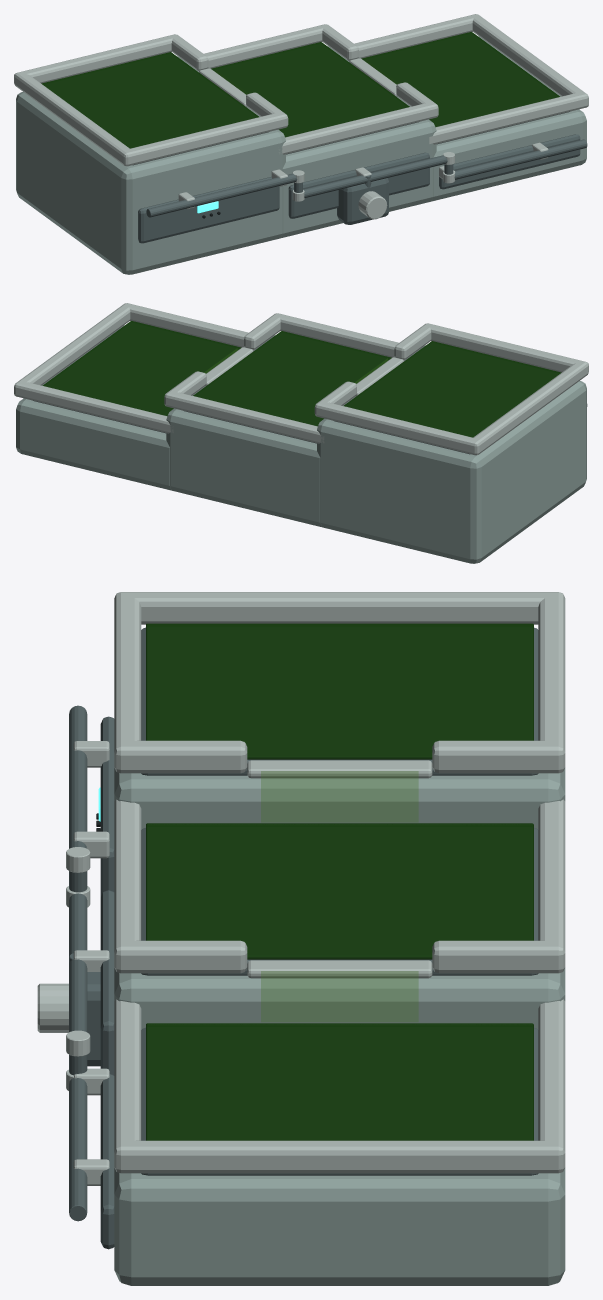
File: Cascade de trois bacs à algues.glb
3 views of the same model, one above another, from view 1: azimuth 30°, elevation 25°; view 2: azimuth 150°, elevation 25°; view 3: azimuth 270°, elevation 25° (orthographic). The views are drawn at different scales.
Parts seen in each view (by area): view 1: 22_three_stage_algae_cascade_Stage_1_Rectangular_Body, 22_three_stage_algae_cascade_Stage_1_Water_Surface, 22_three_stage_algae_cascade_Stage_3_Water_Surface, 22_three_stage_algae_cascade_Stage_2_Water_Surface, 22_three_stage_algae_cascade_Stage_2_Rectangular_Body, 22_three_stage_algae_cascade_Stage_3_Rectangular_Body, 22_three_stage_algae_cascade_Stepped_Circulation_Pipe_Segmen (×3), 22_three_stage_algae_cascade_Stage_1_Front_Service_Panel, 22_three_stage_algae_cascade_Stage_1_Rim_Front, 22_three_stage_algae_cascade_Stage_2_Rim_Front, 22_three_stage_algae_cascade_Stage_3_Rim_Front, 22_three_stage_algae_cascade_Stage_2_Front_Service_Panel (+14 smaller); view 2: 22_three_stage_algae_cascade_Stage_1_Rectangular_Body, 22_three_stage_algae_cascade_Stage_2_Rectangular_Body, 22_three_stage_algae_cascade_Stage_1_Water_Surface, 22_three_stage_algae_cascade_Stage_3_Water_Surface, 22_three_stage_algae_cascade_Stage_2_Water_Surface, 22_three_stage_algae_cascade_Stage_3_Rectangular_Body, 22_three_stage_algae_cascade_Stage_1_Rim_Rear, 22_three_stage_algae_cascade_Stage_2_Rim_Rear, 22_three_stage_algae_cascade_Stage_3_Rim_Rear, 22_three_stage_algae_cascade_Stage_1_Rim_Front, 22_three_stage_algae_cascade_Stage_1_Rim_Left, 22_three_stage_algae_cascade_Stage_3_Rim_Right (+8 smaller); view 3: 22_three_stage_algae_cascade_Stage_3_Rectangular_Body, 22_three_stage_algae_cascade_Stage_1_Water_Surface, 22_three_stage_algae_cascade_Stage_2_Water_Surface, 22_three_stage_algae_cascade_Stage_3_Water_Surface, 22_three_stage_algae_cascade_Stage_1_Rectangular_Body, 22_three_stage_algae_cascade_Stage_2_Rectangular_Body, 22_three_stage_algae_cascade_Stage_3_Rim_Right, 22_three_stage_algae_cascade_Stage_1_Rim_Left, 22_three_stage_algae_cascade_Waterfall_1_Vertical_Sheet, 22_three_stage_algae_cascade_Waterfall_2_Vertical_Sheet, 22_three_stage_algae_cascade_Stepped_Circulation_Pipe_Segmen (×3), 22_three_stage_algae_cascade_Stage_1_Rim_Front (+19 smaller).
Part boxes in pixels (x1,y1,x2,y2): 22_three_stage_algae_cascade_Stage_1_Rectangular_Body: (16,56,285,274); 22_three_stage_algae_cascade_Stage_1_Water_Surface: (41,52,258,148); 22_three_stage_algae_cascade_Stage_3_Water_Surface: (361,32,560,127); 22_three_stage_algae_cascade_Stage_2_Water_Surface: (211,42,409,137); 22_three_stage_algae_cascade_Stage_2_Rectangular_Body: (281,46,436,237); 22_three_stage_algae_cascade_Stage_3_Rectangular_Body: (432,36,586,201); 22_three_stage_algae_cascade_Stepped_Circulation_Pipe_Segmen (×3): (146,139,587,217); 22_three_stage_algae_cascade_Stage_1_Front_Service_Panel: (138,177,279,243); 22_three_stage_algae_cascade_Stage_1_Rim_Front: (120,112,288,166); 22_three_stage_algae_cascade_Stage_2_Rim_Front: (279,102,438,154); 22_three_stage_algae_cascade_Stage_3_Rim_Front: (429,92,588,144); 22_three_stage_algae_cascade_Stage_2_Front_Service_Panel: (288,152,429,218); 22_three_stage_algae_cascade_Stage_1_Rectangular_Body: (317,345,586,563); 22_three_stage_algae_cascade_Stage_2_Rectangular_Body: (166,335,321,526); 22_three_stage_algae_cascade_Stage_1_Water_Surface: (344,341,561,437); 22_three_stage_algae_cascade_Stage_3_Water_Surface: (42,321,241,416); 22_three_stage_algae_cascade_Stage_2_Water_Surface: (193,331,391,426); 22_three_stage_algae_cascade_Stage_3_Rectangular_Body: (16,325,170,490); 22_three_stage_algae_cascade_Stage_1_Rim_Rear: (314,401,481,455); 22_three_stage_algae_cascade_Stage_2_Rim_Rear: (164,391,324,443); 22_three_stage_algae_cascade_Stage_3_Rim_Rear: (14,382,173,433); 22_three_stage_algae_cascade_Stage_1_Rim_Front: (423,323,588,375); 22_three_stage_algae_cascade_Stage_1_Rim_Left: (468,361,588,455); 22_three_stage_algae_cascade_Stage_3_Rim_Right: (14,303,130,397); 22_three_stage_algae_cascade_Stage_3_Rectangular_Body: (114,1168,565,1285); 22_three_stage_algae_cascade_Stage_1_Water_Surface: (146,623,533,759); 22_three_stage_algae_cascade_Stage_2_Water_Surface: (146,823,533,959); 22_three_stage_algae_cascade_Stage_3_Water_Surface: (146,1023,533,1140); 22_three_stage_algae_cascade_Stage_1_Rectangular_Body: (114,768,565,829); 22_three_stage_algae_cascade_Stage_2_Rectangular_Body: (114,968,565,1029); 22_three_stage_algae_cascade_Stage_3_Rim_Right: (114,1140,565,1173); 22_three_stage_algae_cascade_Stage_1_Rim_Left: (115,592,565,624); 22_three_stage_algae_cascade_Waterfall_1_Vertical_Sheet: (261,771,418,822); 22_three_stage_algae_cascade_Waterfall_2_Vertical_Sheet: (261,971,418,1021); 22_three_stage_algae_cascade_Stepped_Circulation_Pipe_Segmen (×3): (69,705,87,1221); 22_three_stage_algae_cascade_Stage_1_Rim_Front: (114,592,141,773).
Size of the model in its own units: 4.76 by 1.22 by 2.34.
